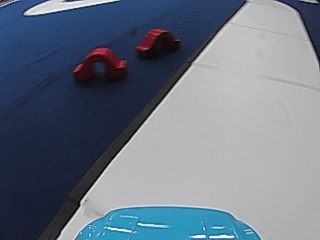bridge: (71, 43, 127, 84), (136, 24, 179, 60)
